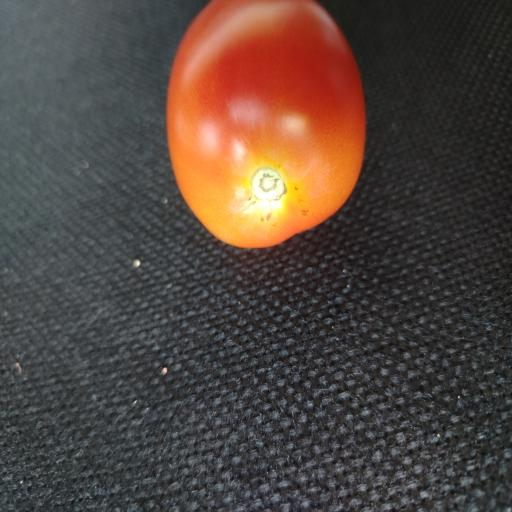ripe: (167, 0, 365, 247)
